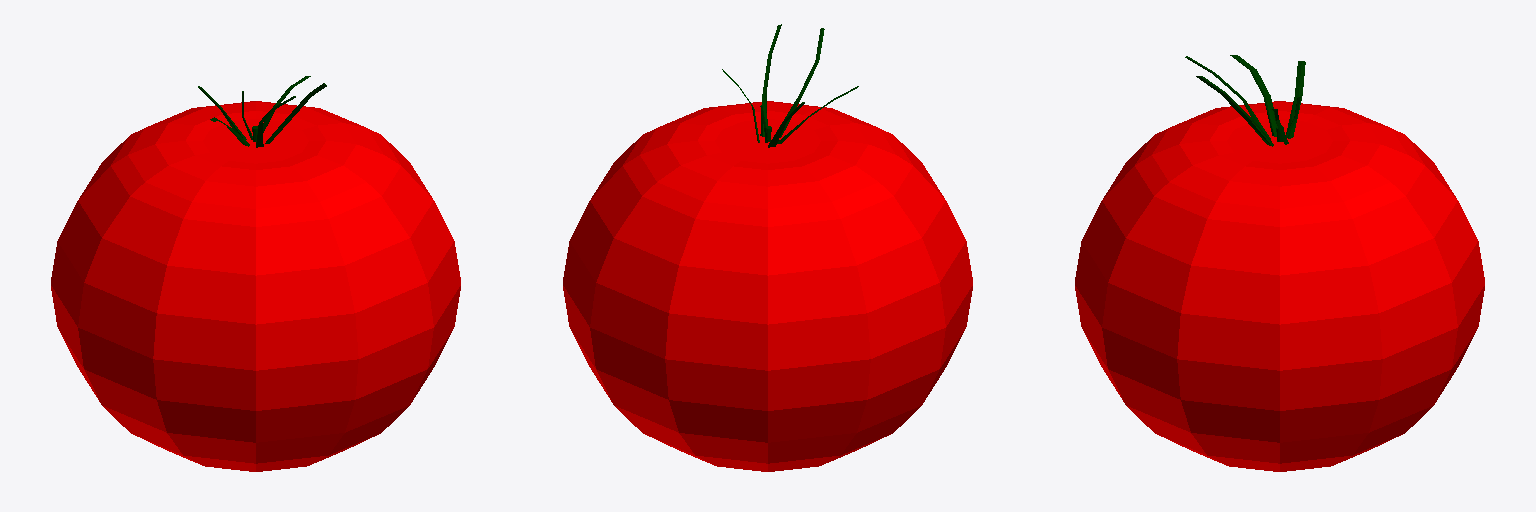
Rendered from TOMATO.obj.
The picture shows the model from 3 angles: view 1: azimuth 30°, elevation 25°; view 2: azimuth 150°, elevation 25°; view 3: azimuth 270°, elevation 25°; orthographic projection.
Parts seen in each view (by area): view 1: Sphere.006; view 2: Sphere.006; view 3: Sphere.006.
Part boxes in pixels (x1,y1,x2,y2): Sphere.006: (51,76,460,471); Sphere.006: (563,24,972,471); Sphere.006: (1075,55,1484,471).
Size of the model in its own units: 0.3941 by 0.4131 by 0.3941.